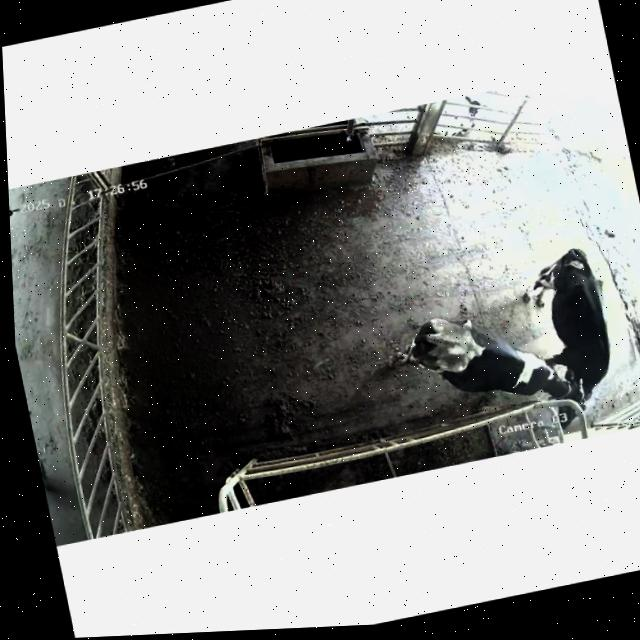stand: (394, 317, 583, 403), (523, 248, 610, 399)
